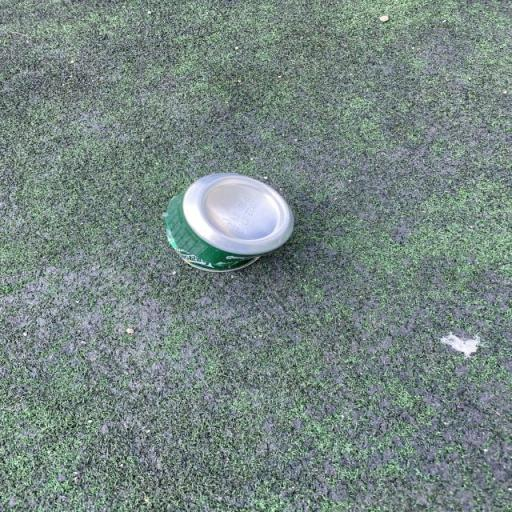metal: (112, 143, 351, 311)
